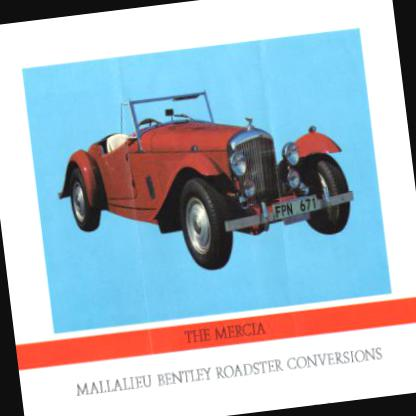car: (46, 68, 362, 288)
